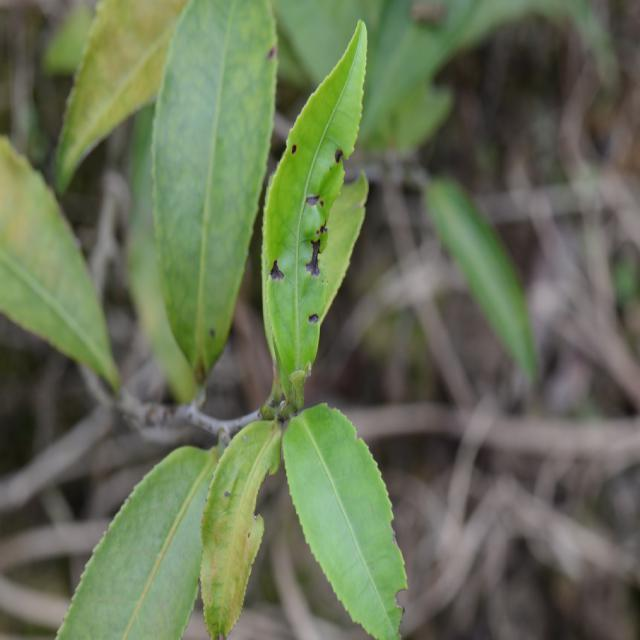Tea red scab: (302, 180, 334, 277), (263, 250, 286, 286), (287, 135, 302, 160), (334, 145, 347, 170)
